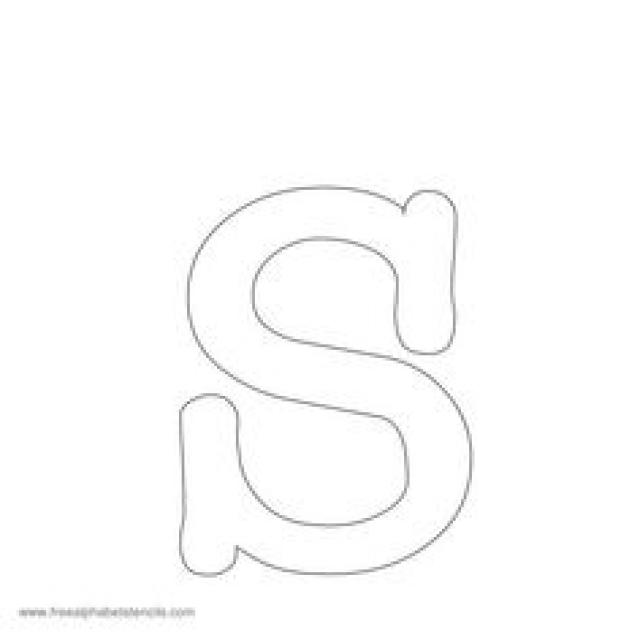S: (133, 164, 554, 608)
